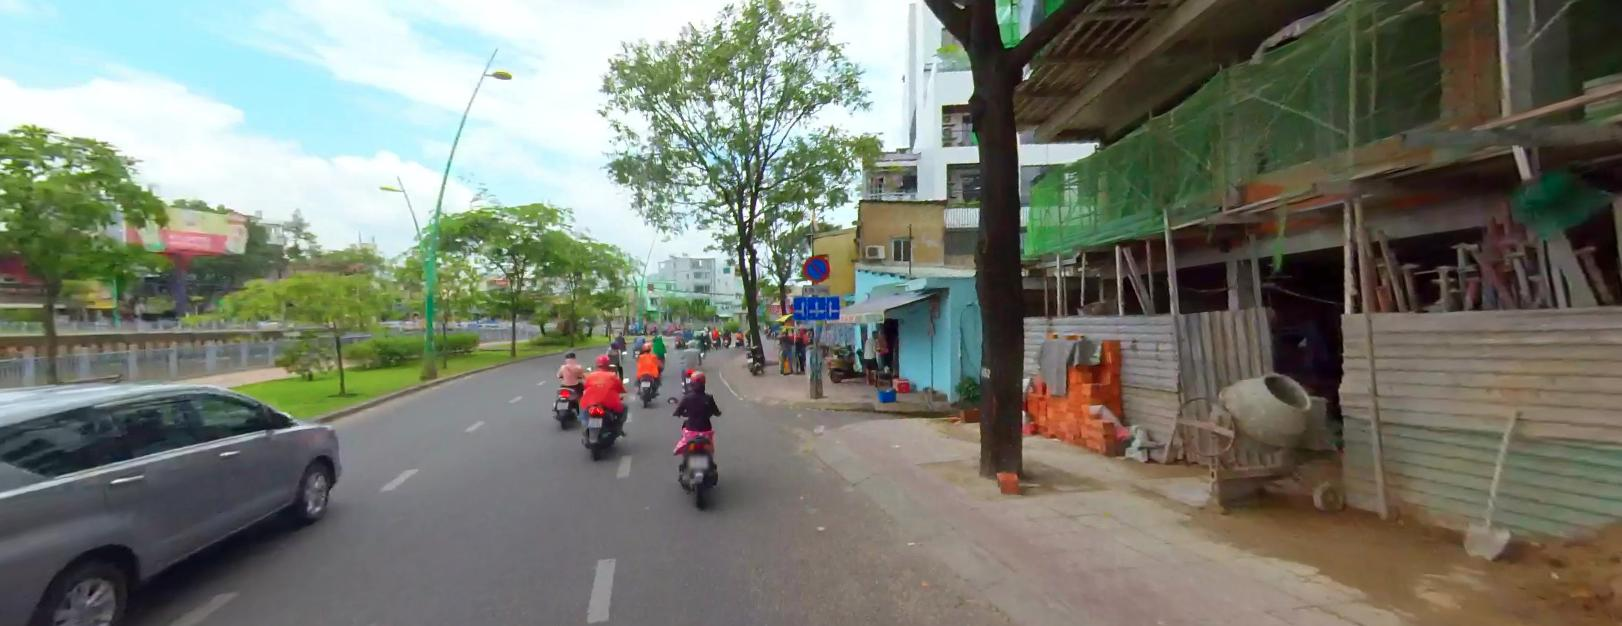Cam dung va do: (803, 254, 830, 281)
